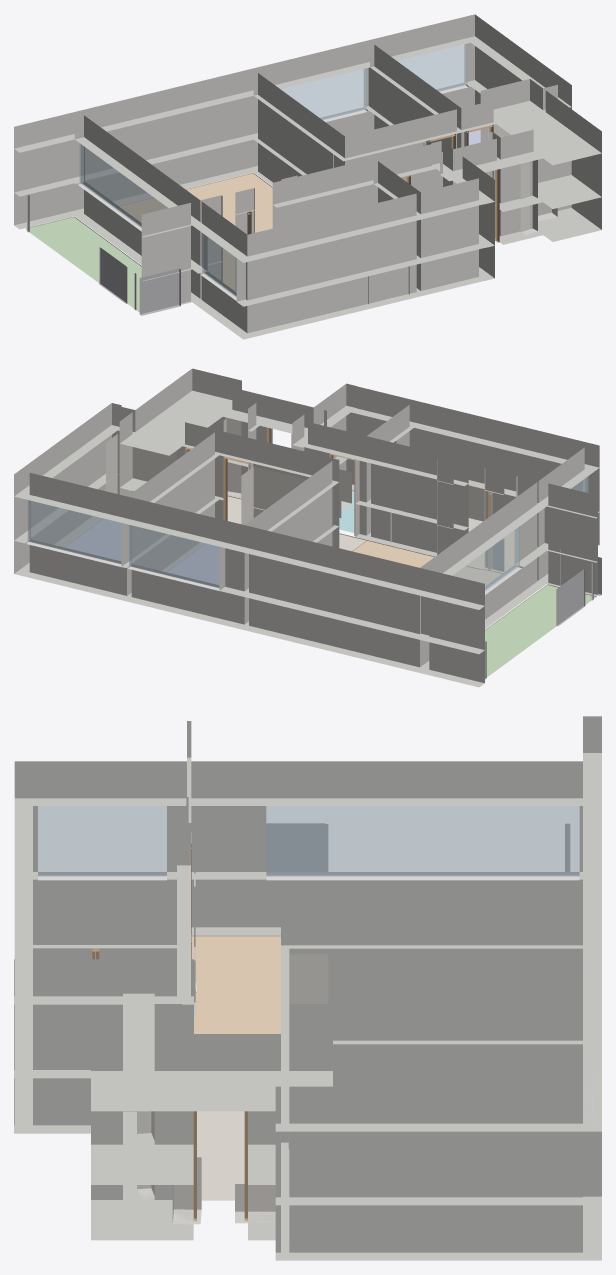
3 renders of one model, top to bottom at view 1: azimuth 30°, elevation 25°; view 2: azimuth 150°, elevation 25°; view 3: azimuth 270°, elevation 25°, orthographic. The views are drawn at different scales.
Visible parts, largest first — view 1: walls, floor_6_Outdoor, floor_0_Living_Room, railings, window_2, window_4, window_8, window_0, furniture_2_closet, sill_2; view 2: walls, window_8, window_4, floor_6_Outdoor, furniture_0_closet, window_2, furniture_1_closet, floor_0_Living_Room, railings, floor_4_Bed_Room, floor_3_Bed_Room, furniture_2_closet (+6 smaller); view 3: walls, window_2, window_0, floor_0_Living_Room, floor_1_Entry, railings, sill_2, furniture_0_closet, furniture_7_toilet, furniture_8_sink, sill_0, door_3.
Boxes of the visible parts, bbox=[...] form: walls: bbox=[14, 14, 601, 339]; floor_6_Outdoor: bbox=[26, 216, 141, 312]; floor_0_Living_Room: bbox=[119, 173, 272, 290]; railings: bbox=[27, 194, 180, 315]; window_2: bbox=[79, 139, 167, 227]; window_4: bbox=[279, 68, 366, 119]; window_8: bbox=[395, 42, 467, 91]; window_0: bbox=[202, 229, 241, 299]; furniture_2_closet: bbox=[520, 160, 537, 234]; sill_2: bbox=[77, 182, 141, 231]; walls: bbox=[14, 368, 599, 687]; window_8: bbox=[27, 500, 121, 564]; window_4: bbox=[129, 525, 222, 587]; floor_6_Outdoor: bbox=[485, 584, 596, 677]; furniture_0_closet: bbox=[241, 467, 333, 546]; window_2: bbox=[425, 522, 519, 610]; furniture_1_closet: bbox=[106, 434, 176, 494]; floor_0_Living_Room: bbox=[352, 540, 502, 585]; railings: bbox=[485, 549, 601, 679]; floor_4_Bed_Room: bbox=[64, 518, 120, 560]; floor_3_Bed_Room: bbox=[166, 543, 218, 584]; furniture_2_closet: bbox=[223, 417, 241, 496]; walls: bbox=[14, 716, 601, 1260]; window_2: bbox=[266, 806, 579, 876]; window_0: bbox=[38, 806, 166, 876]; floor_0_Living_Room: bbox=[191, 935, 280, 1033]; floor_1_Entry: bbox=[197, 1111, 244, 1200]; railings: bbox=[266, 823, 569, 871]; sill_2: bbox=[266, 874, 579, 880]; furniture_0_closet: bbox=[289, 954, 328, 1003]; furniture_7_toilet: bbox=[235, 1184, 275, 1223]; furniture_8_sink: bbox=[172, 1157, 201, 1224]; sill_0: bbox=[38, 874, 166, 880]; door_3: bbox=[193, 1111, 247, 1221].
Bounding box in the file's own units: 13.21 × 2.72 × 8.67.
